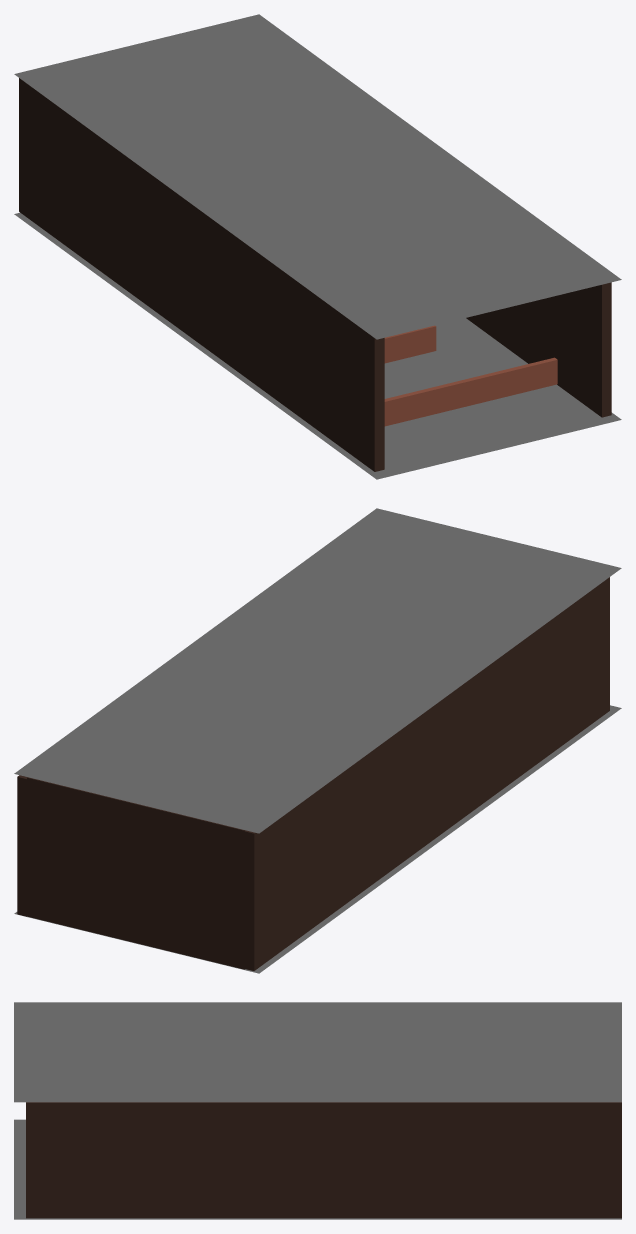
File: Wall Assets.fbx
3 renders of one model, top to bottom at view 1: azimuth 30°, elevation 25°; view 2: azimuth 150°, elevation 25°; view 3: azimuth 270°, elevation 25°, orthographic. The views are drawn at different scales.
Visible parts, largest first — view 1: Plane.001, Cube.010, Plane, Cube.019, Cube.018, Cube.008; view 2: Plane.001, Cube.010, Cube.020, Plane, Cube.019; view 3: Cube.019, Plane.001, Plane.
Boxes of the visible parts, x1,y1,x2,y2 form: Plane.001: (14,14,621,339); Cube.010: (19,78,384,471); Plane: (14,212,621,479); Cube.019: (466,282,611,417); Cube.018: (384,357,557,426); Cube.008: (384,325,436,363); Plane.001: (14,508,621,833); Cube.010: (244,577,609,970); Cube.020: (27,777,244,969); Plane: (14,705,621,973); Cube.019: (17,775,27,916); Cube.019: (26,1102,621,1218); Plane.001: (14,1002,621,1102); Plane: (14,1119,621,1219).
Bounding box in the file's own units: 1933 × 1055 × 4952.
